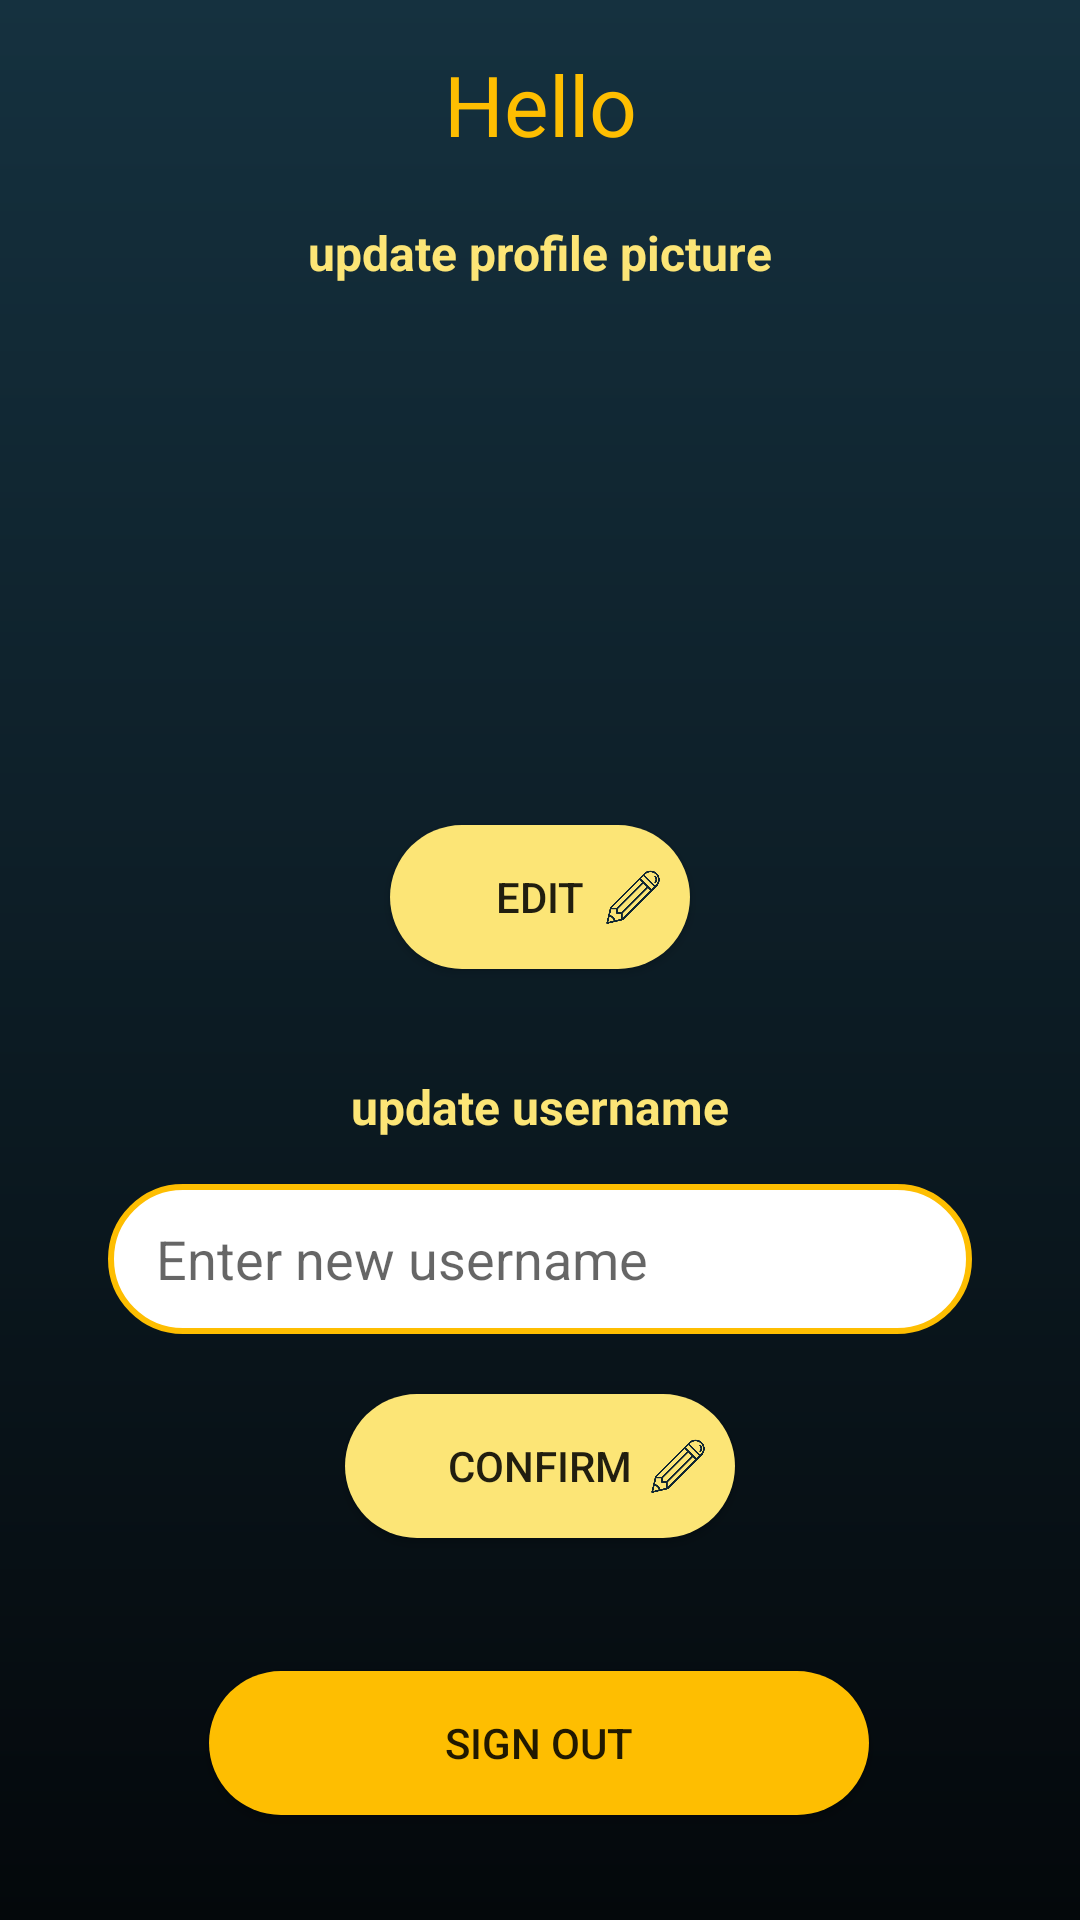

Screen size 1080 × 1920. Icon name, then its center in pixels as [x,y]:
pencil: [633,897], [678,1466]
